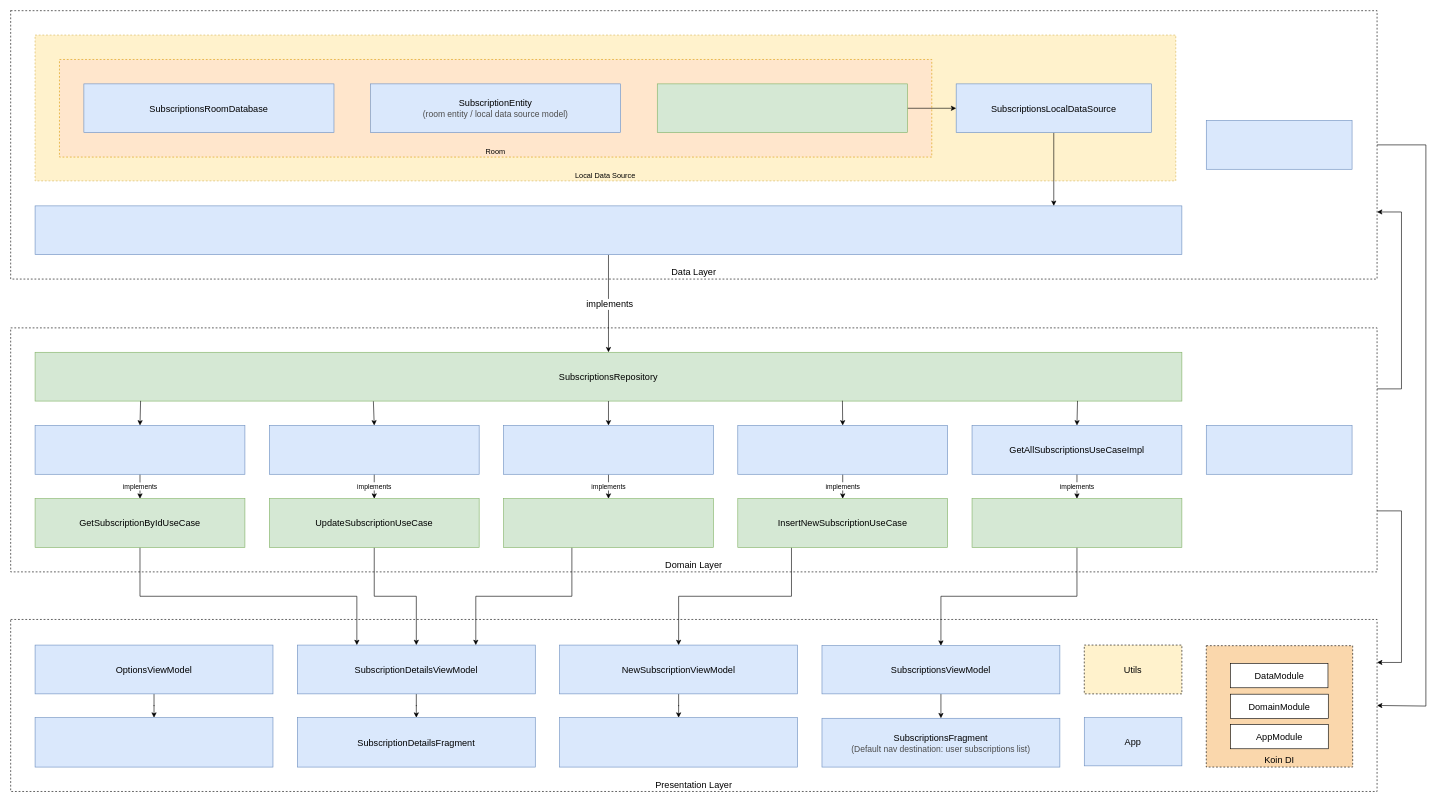
Image size: 1441x802. Some labels were removed from this diagram. The shapes that lost their labels are listed below. From the top down, each one's box as (x1, y1, x2, y2) in pixels, then its label:
(657, 83, 907, 133): SubscriptionsDAO (room entity / local data source model)
(1206, 120, 1352, 169): Subscription (data layer model)
(34, 205, 1182, 255): SubscriptionsRepositoryImpl
(34, 425, 245, 474): GetSubscriptionByIdUseCaseImpl
(269, 425, 479, 474): UpdateSubscriptionUseCaseImpl
(503, 425, 713, 474): DeleteSubscriptionByIdUseCaseImpl
(737, 425, 948, 474): InsertNewSubscriptionUseCaseImpl
(1206, 425, 1352, 474): Subscription (domain layer model)
(503, 498, 713, 547): DeleteSubscriptionByIdUseCase
(971, 498, 1182, 547): GetAllSubscriptionsUseCase
(34, 717, 273, 767): OptionsFragment
(559, 717, 798, 767): NewSubscriptionFragment
